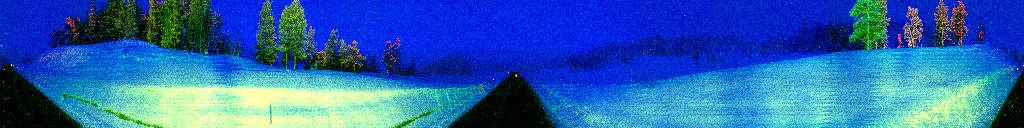pole: (267, 100, 273, 128), (758, 122, 769, 128)
